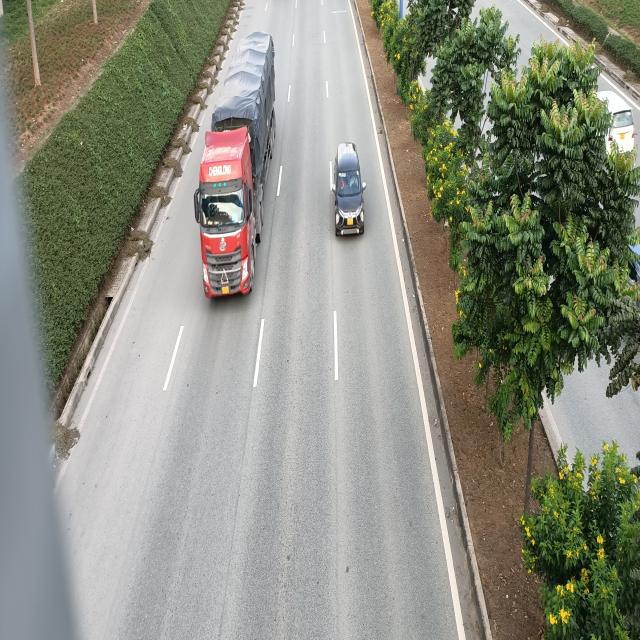car: (332, 141, 366, 236)
container: (196, 32, 279, 296)
